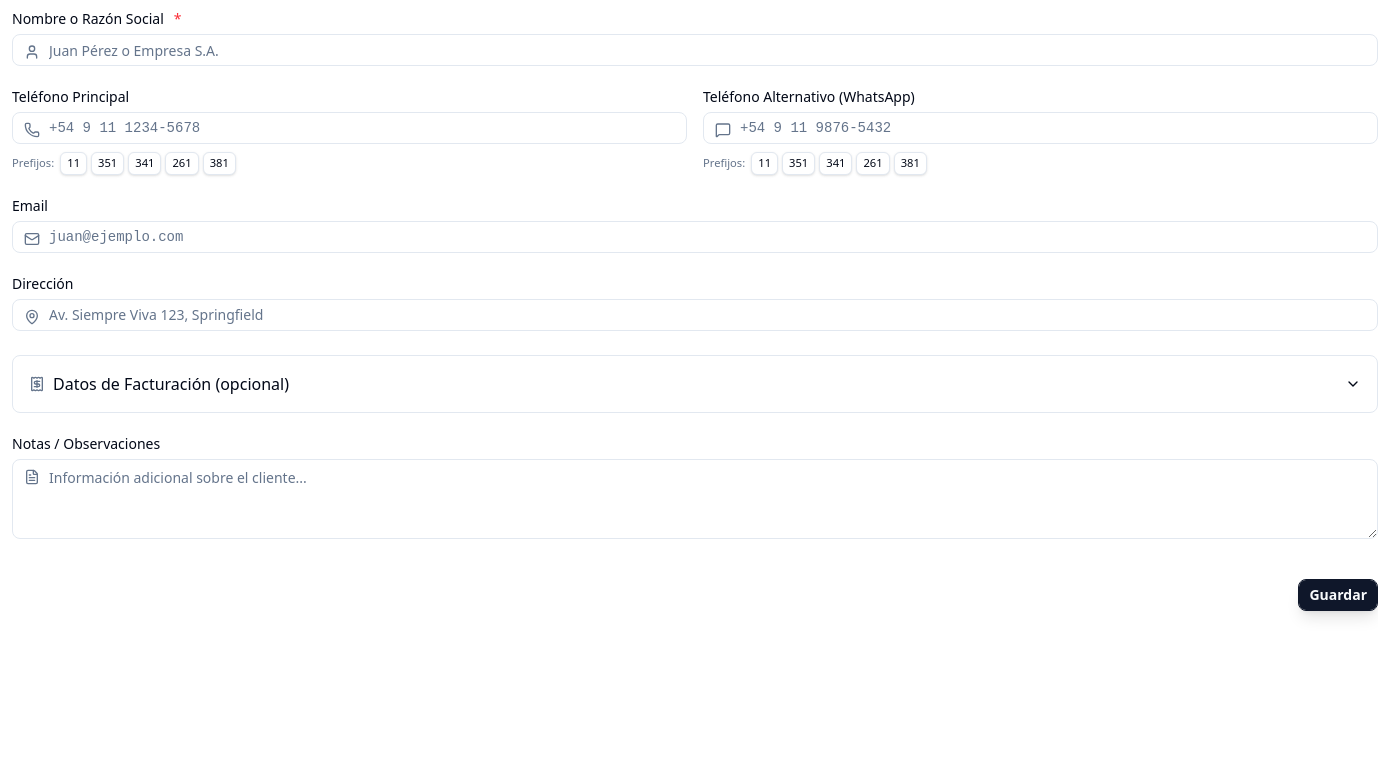
CustomerForm › should perform real-time CUIT validation when exactly 11 numeric digits are typed
// Open Billing Data section
Click the button "Datos de Facturación (opcional)". click: (171, 384)
box: [13,356,1377,412]
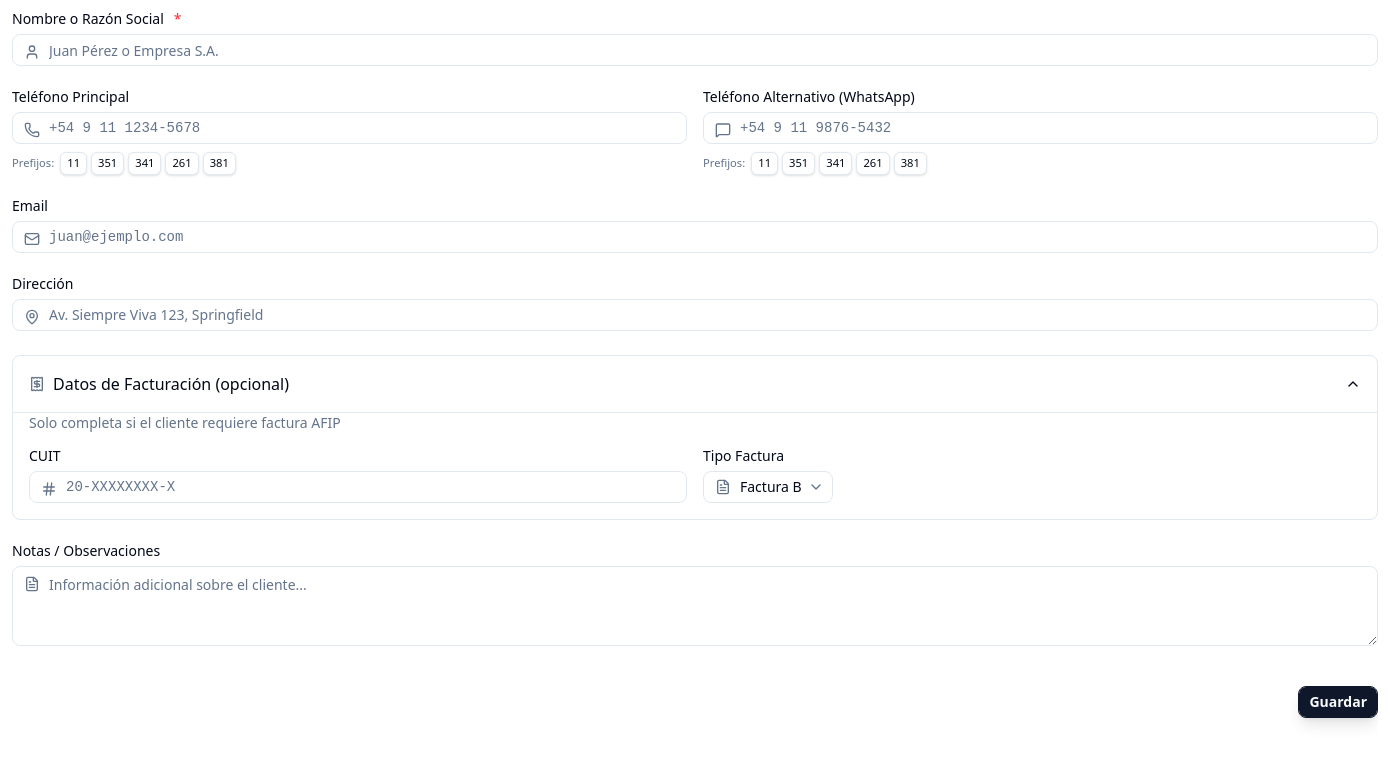
Type "20123456789" into the field with placeholder "20-XXXXXXXX-X". click: (358, 487)
box: [29,471,687,503]
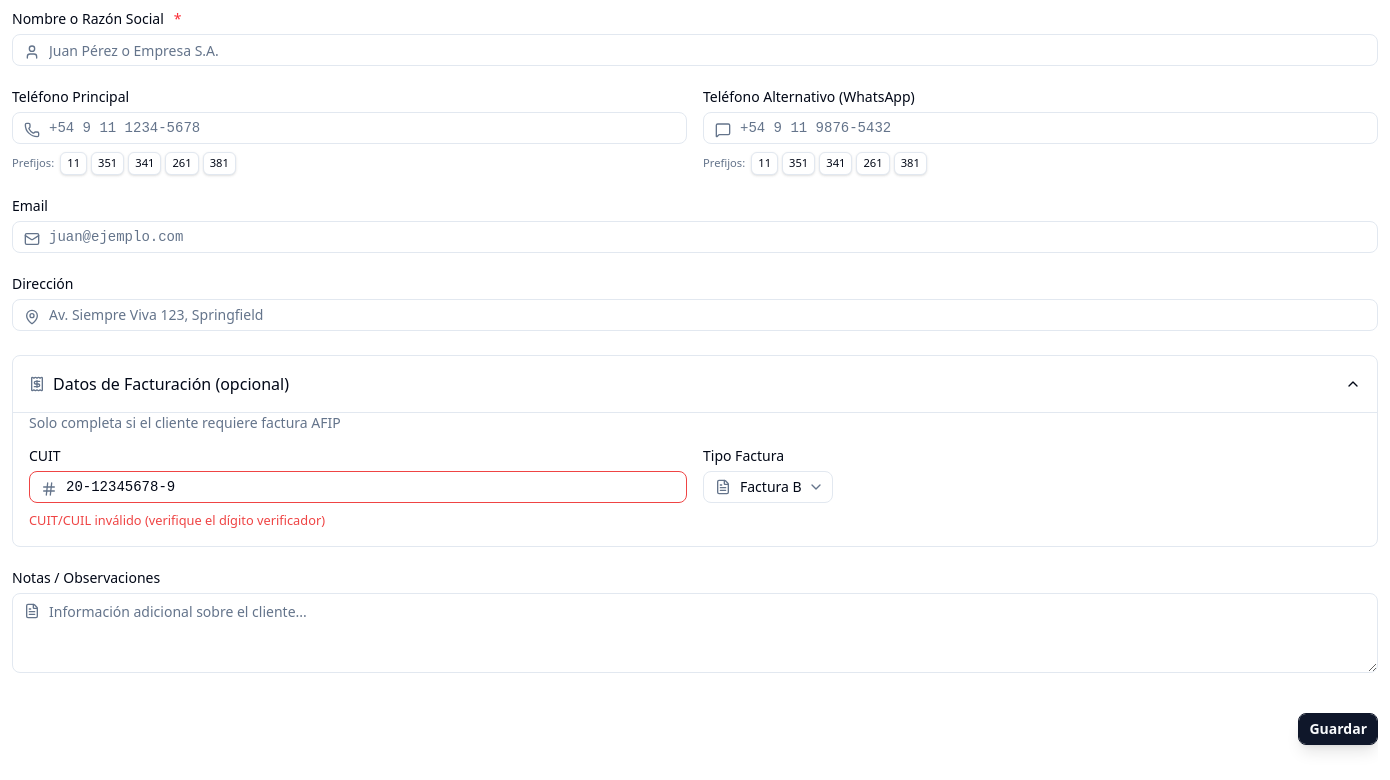
Check: the text "CUIT válido" is not shown
Check: the field with placeholder "20-XXXXXXXX-X" holds "20-12345678-9"
Check: the text "CUIT/CUIL inválido (verifique el dígito verificador)" is shown, box [29,511,325,529]
Replace the text in the field with placeholder "20-XXXXXXXX-X" with "20301234563". click: (358, 487)
box: [29,471,687,503]
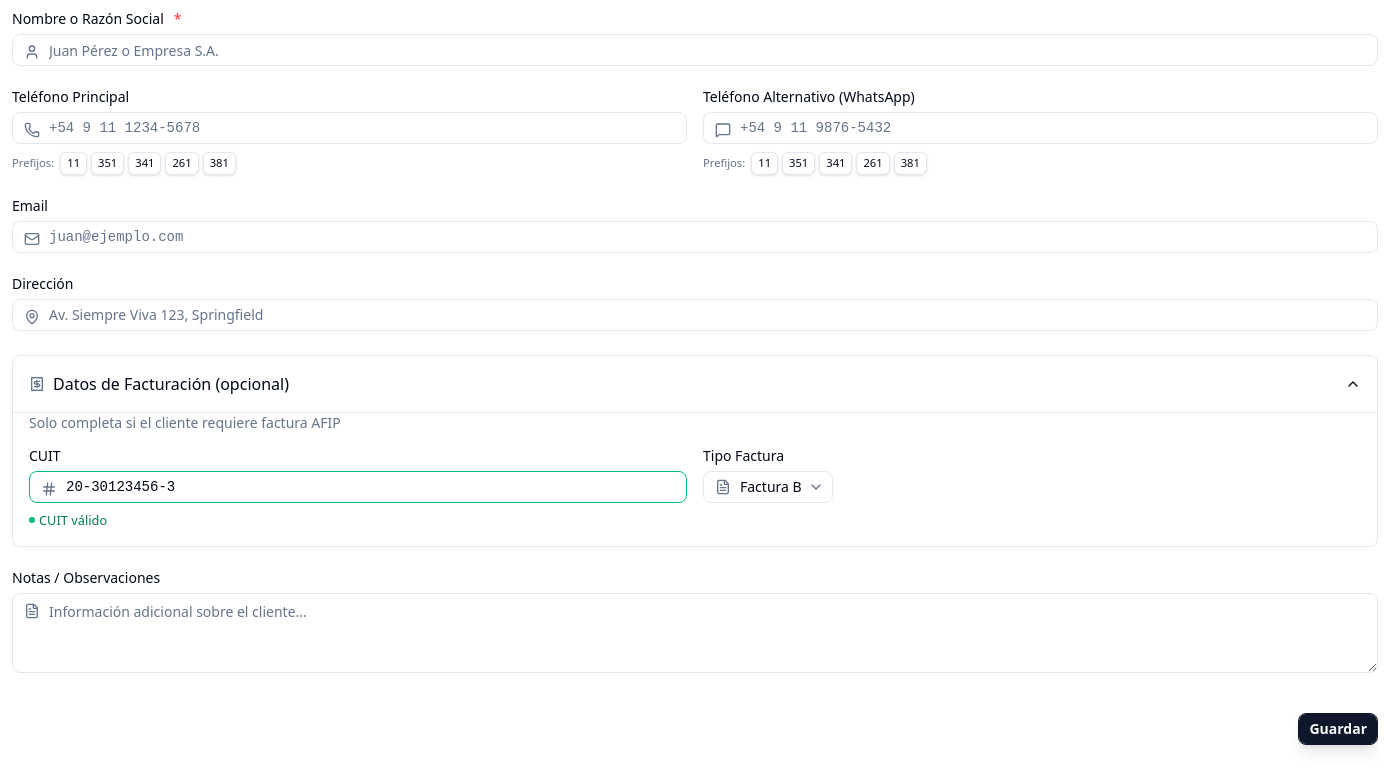
Check: the field with placeholder "20-XXXXXXXX-X" holds "20-30123456-3", box [29,471,687,503]
Check: the text "CUIT/CUIL inválido" is gone
Check: the text "CUIT válido" is shown, box [29,511,107,529]
